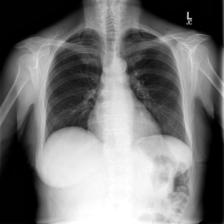normal: (41, 25, 193, 153)
